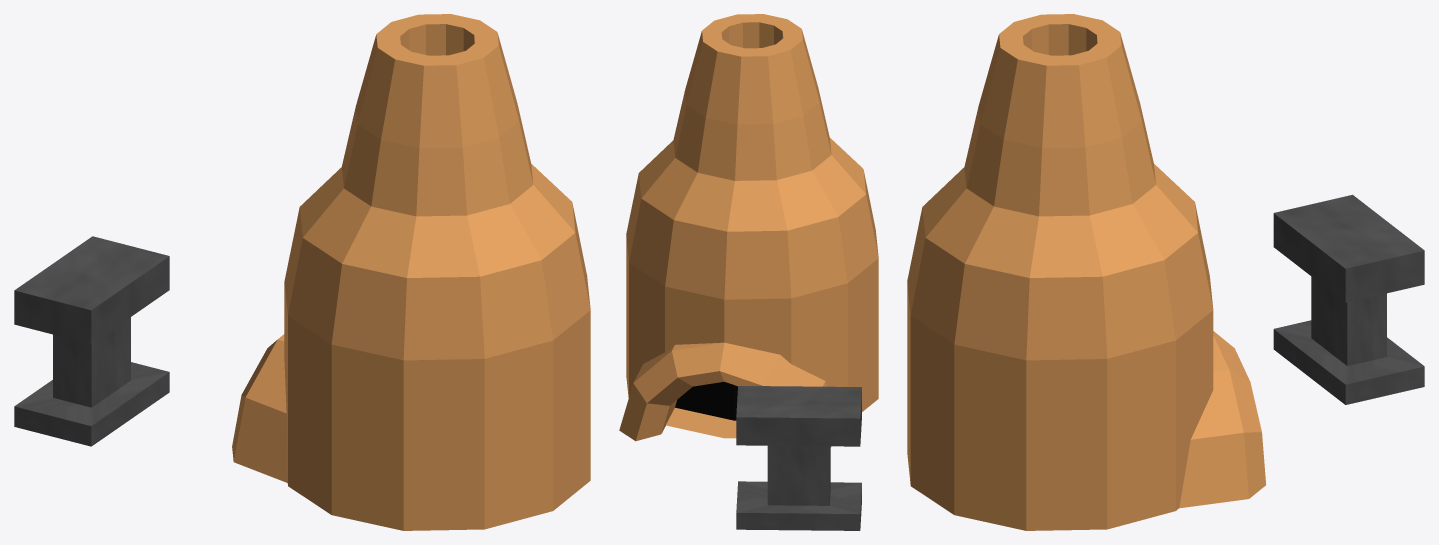
Rendered from tile_factory_bloomery.fbx.
The picture shows the model from 3 angles, left to right: view 1: azimuth 30°, elevation 25°; view 2: azimuth 150°, elevation 25°; view 3: azimuth 270°, elevation 25°; orthographic projection. The views are drawn at different scales.
Visible parts, largest first — view 1: Furnace, Anvil; view 2: Furnace, Anvil; view 3: Furnace, Anvil.
Part boxes in pixels (<box>): Furnace: <box>232,14,590,530</box>; Anvil: <box>14,236,169,446</box>; Furnace: <box>619,14,878,447</box>; Anvil: <box>736,386,861,530</box>; Furnace: <box>907,14,1265,530</box>; Anvil: <box>1273,194,1424,404</box>.
Size of the model in its own units: 1.81 by 1.8 by 1.98.
Materials: 3 (1 with a texture image).
